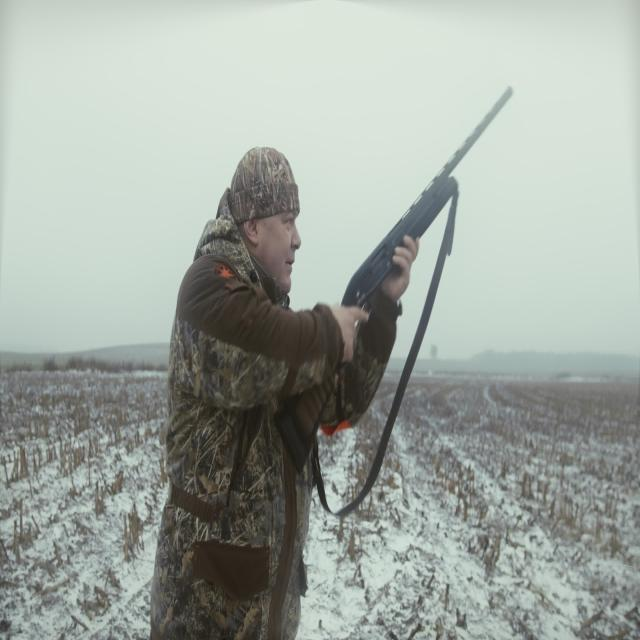Hunter: (163, 142, 328, 626)
Rifle: (335, 68, 524, 362)
